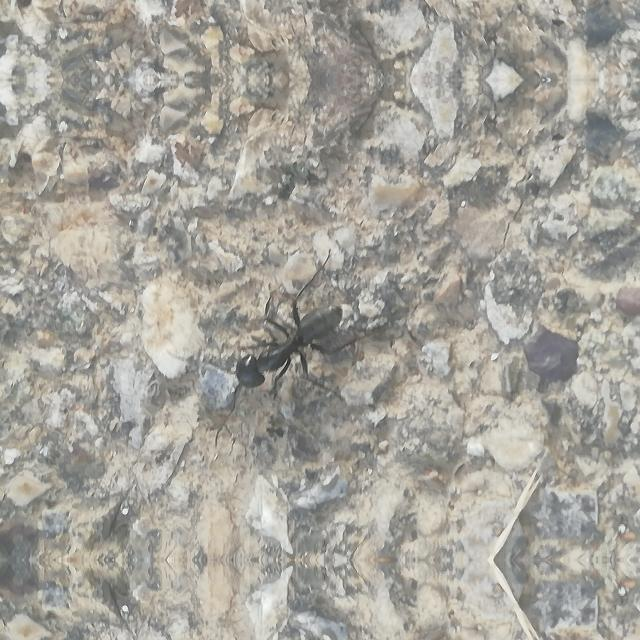Camponotus: (201, 266, 349, 418)
